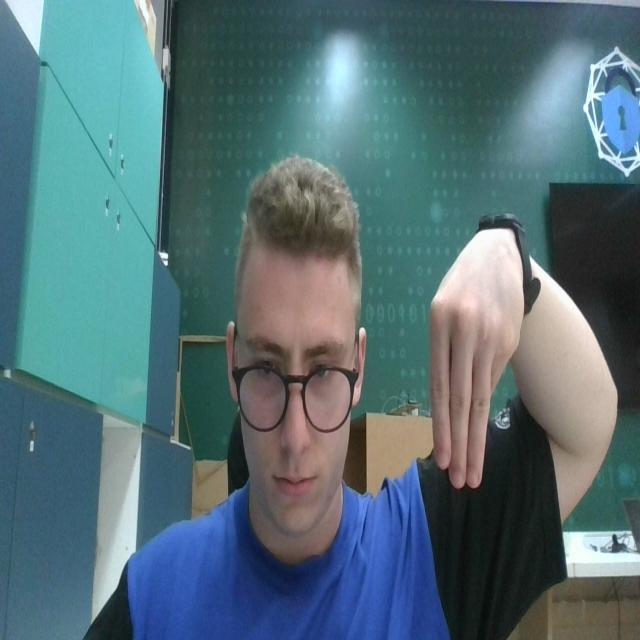M: (424, 229, 525, 491)
